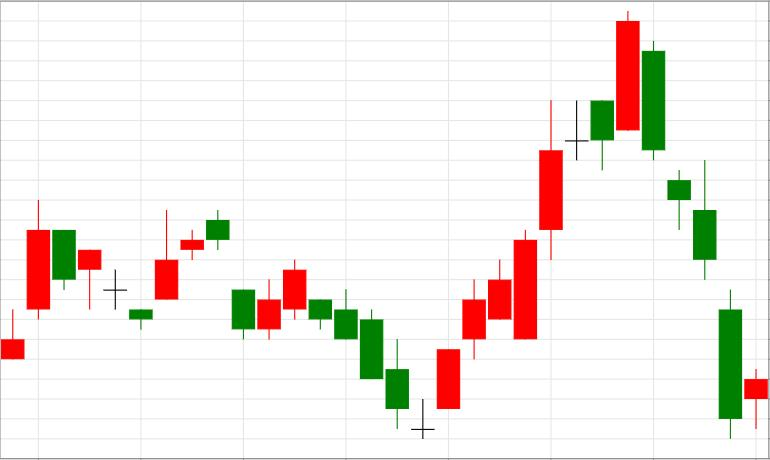morning_star_rise: (308, 290, 460, 438)
